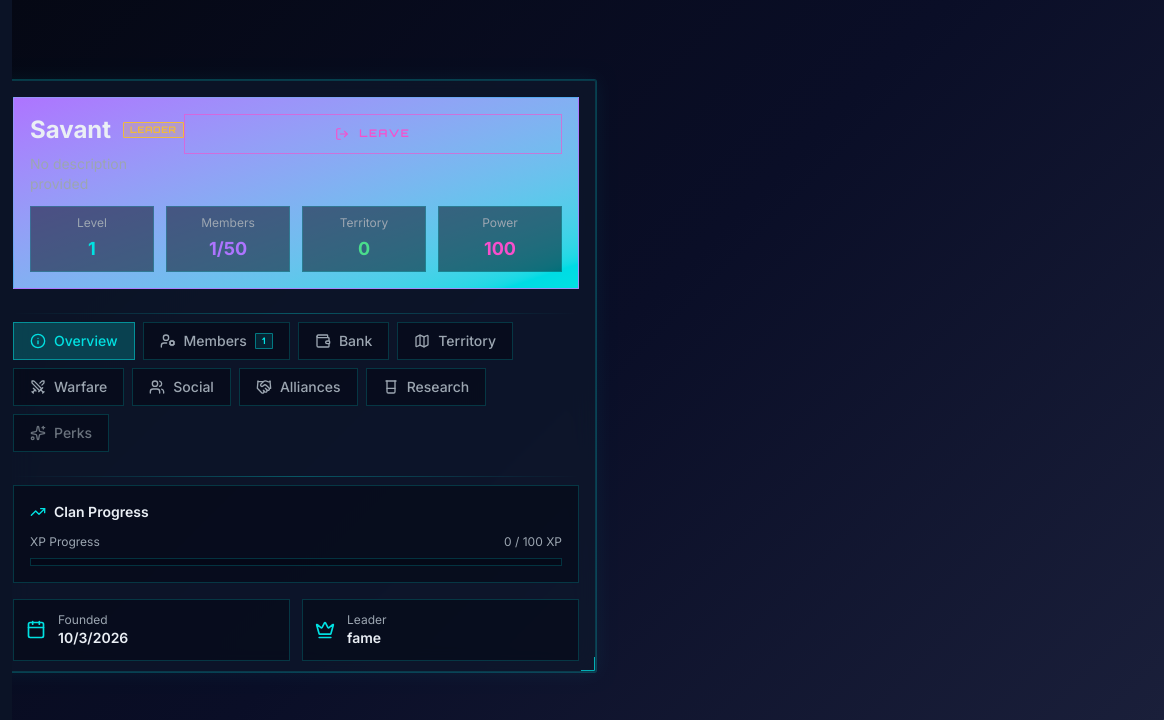
FID-20260917-010: unreachable clan UI becomes reachable › mount pin: clicking the Alliances tab renders the AlliancePanel
Click the button "Alliances" at point(298, 387), box [239,368,358,406]
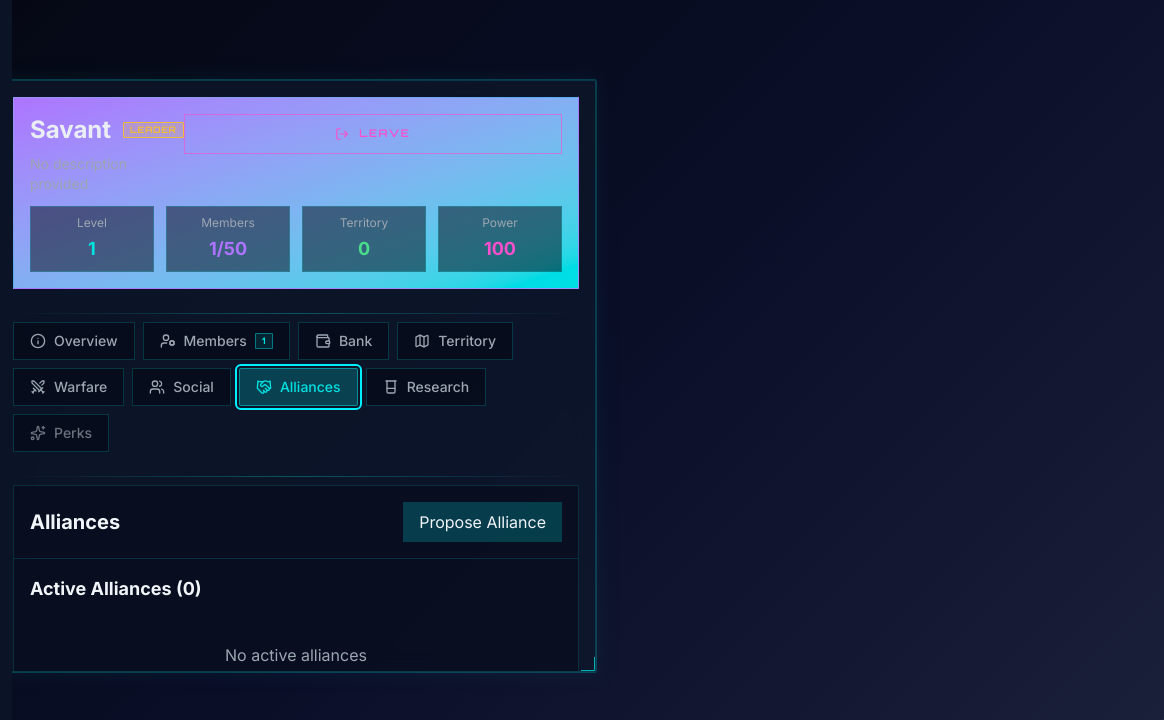
Expected: the button "Propose Alliance" is shown, [403,502,562,542]
